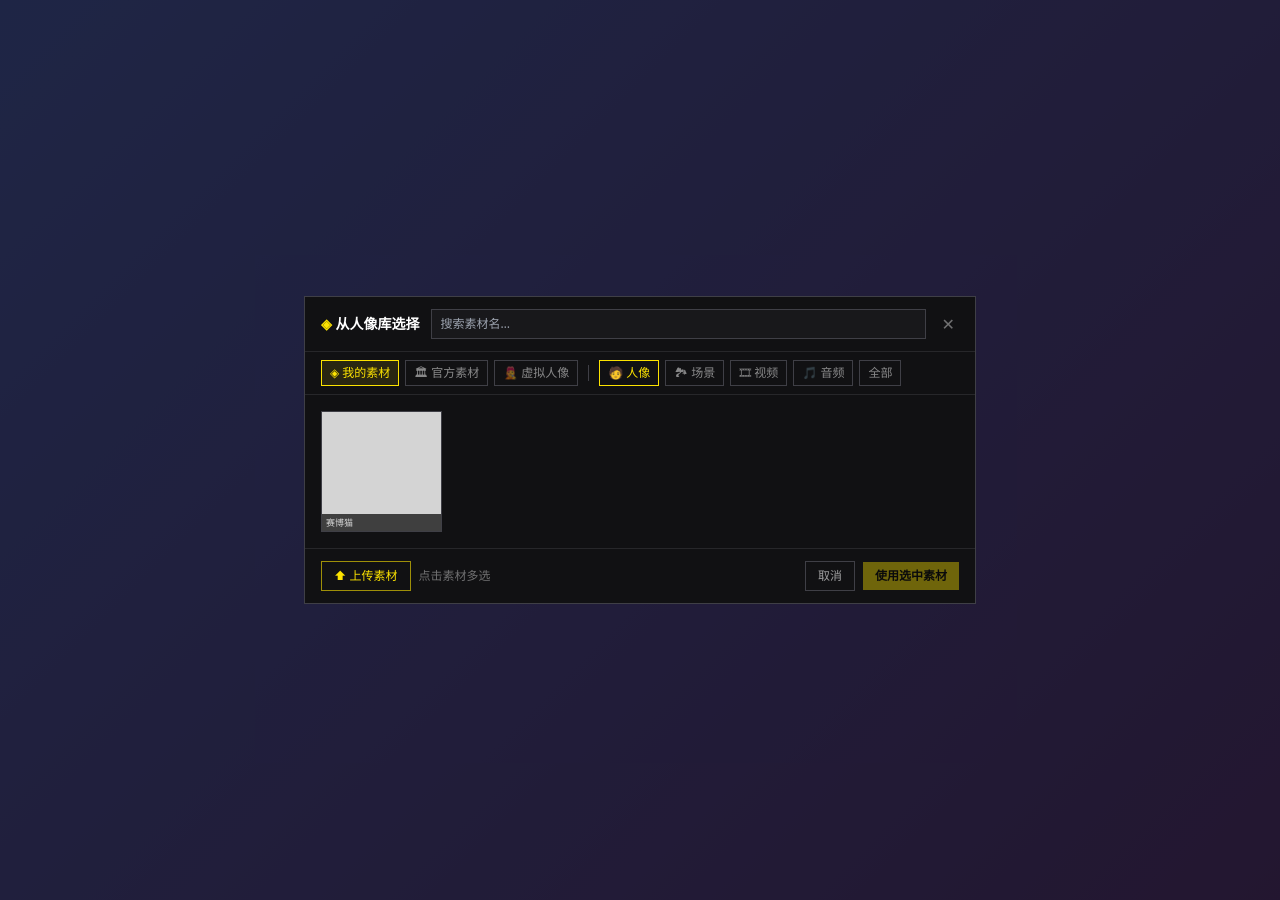
Test: PortraitPickerModal › 「我的素材」显示上传按钮;官方素材 tab 不显示
This screenshot has width=1280, height=900.
Expected: the button "⬆ 上传素材" is shown, [321,561,410,591]
What coordinates should you click on to do the following:
click the button "🏛 官方素材"
I would click on:
 (447, 373)
Its box is [405,360,488,386].
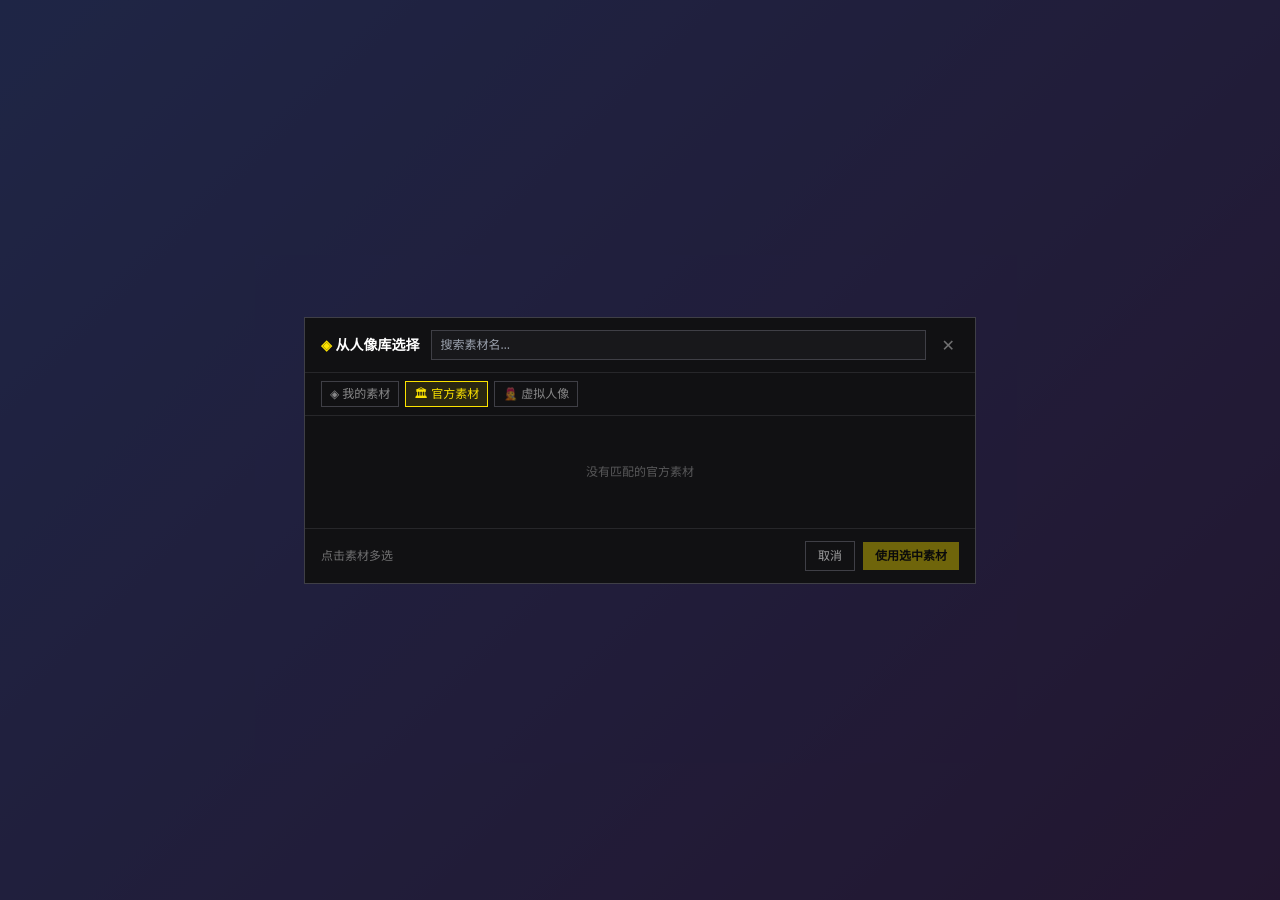
Result: the button "上传素材" is gone
